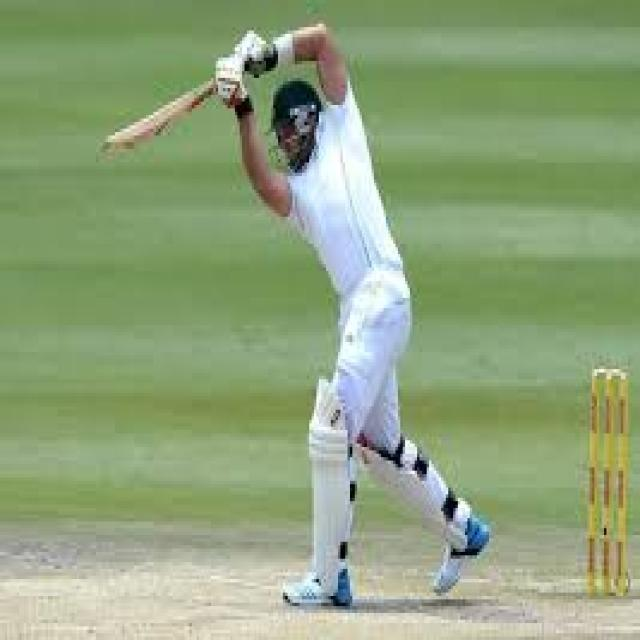bat: (86, 80, 225, 175)
toe: (94, 135, 126, 158)
